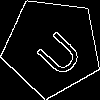U: (27, 21, 86, 80)
